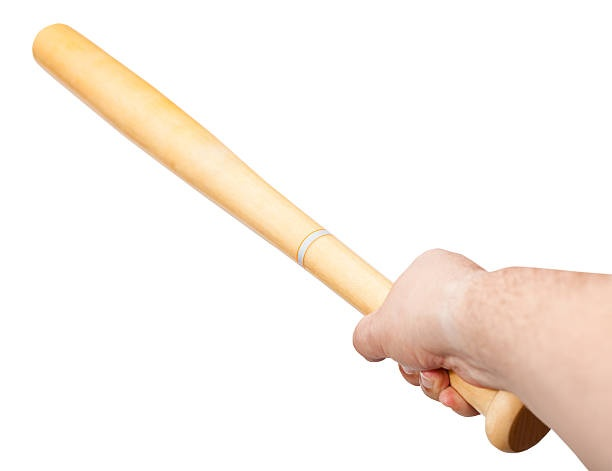bita: (34, 22, 547, 445)
